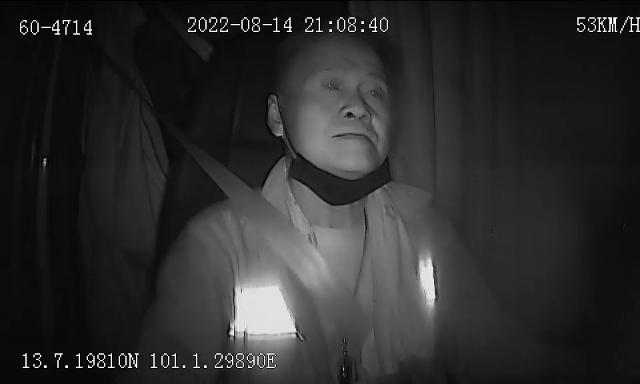SafeDriving: (359, 74, 391, 106), (316, 70, 348, 98)
Seatbelt: (161, 117, 375, 355)
